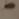cockroach: (4, 3, 16, 8)
